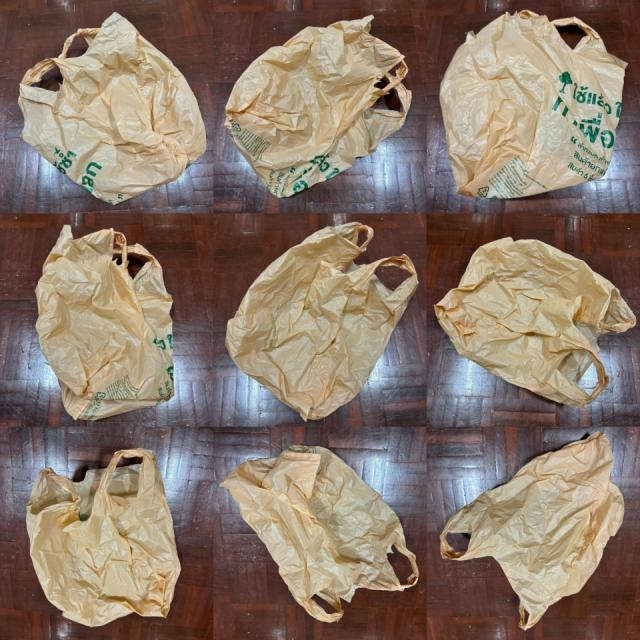Single-layer Plastic: (226, 221, 419, 420), (440, 431, 624, 629), (19, 12, 206, 204), (440, 10, 626, 199), (221, 445, 419, 622), (225, 16, 411, 198), (435, 238, 636, 406), (26, 450, 181, 626), (36, 225, 174, 419)
